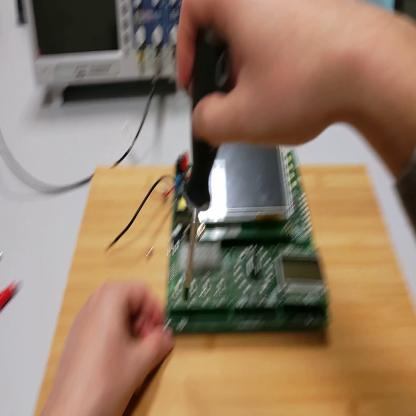hand: (174, 2, 364, 148), (43, 274, 176, 414)
low voltage board: (113, 151, 338, 326)
oscilloscope: (24, 4, 178, 108)
screwdriver-: (178, 22, 230, 300)
working area: (40, 159, 416, 416)
